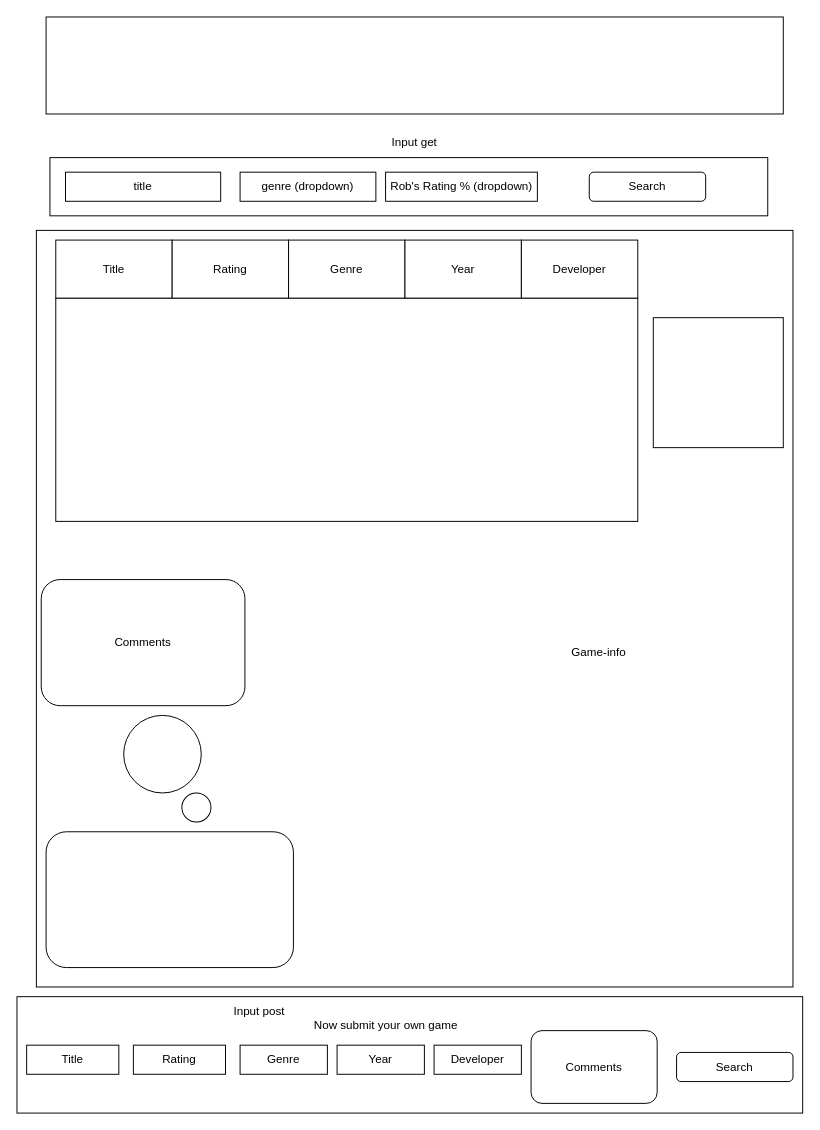
Some shapes in this 820 by 1130 pixel diagram are drawn without their labels. The centre of each missing label's shape, as x and y in pixels:
"Brain Image" goes at point (169, 899).
"GAMES DATA" goes at point (346, 409).
"Header" goes at point (414, 65).
"Image" goes at point (717, 382).
